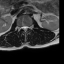CCS_normal: (24, 24, 26, 33)
LFS_normal: (28, 25, 30, 30)
LLS_normal: (26, 24, 28, 31)
RFS_normal: (19, 24, 21, 31)
RLS_normal: (21, 24, 24, 31)
